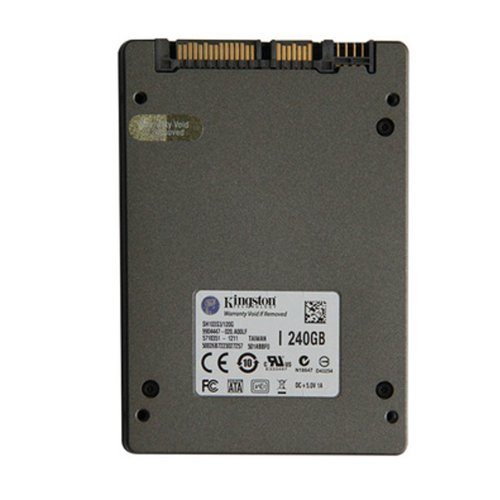Kingston: (199, 290, 287, 320)
